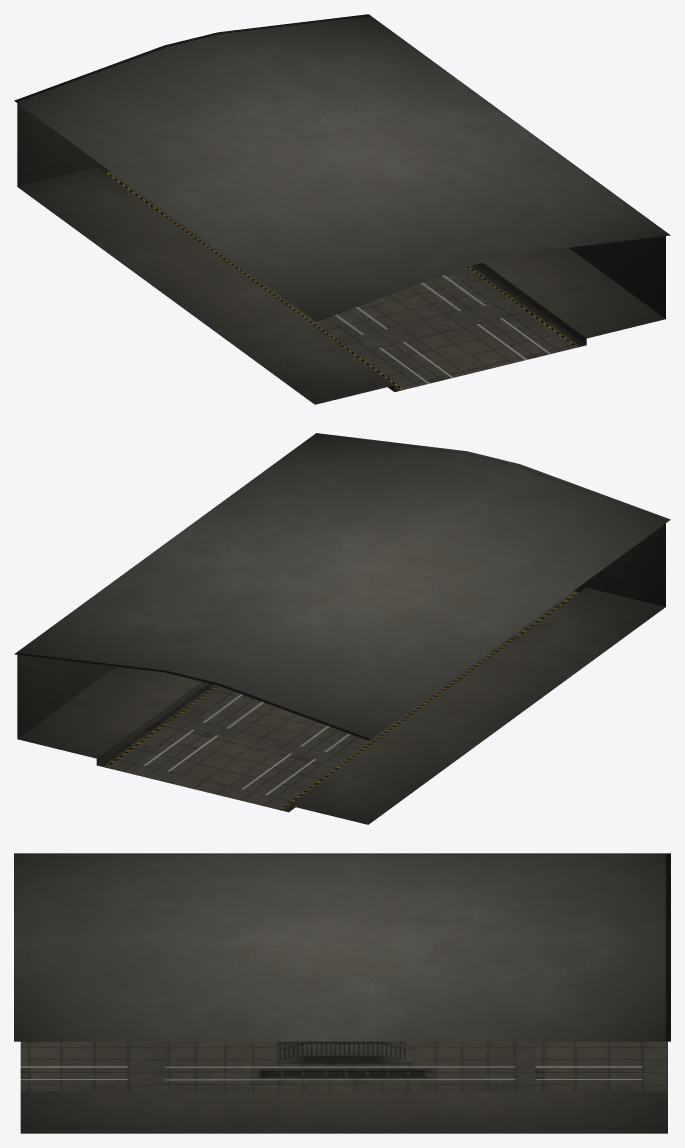
File: hangerFloor.fbx
The picture shows the model from 3 angles, top to bottom: view 1: azimuth 30°, elevation 25°; view 2: azimuth 150°, elevation 25°; view 3: azimuth 270°, elevation 25°; orthographic projection. The views are drawn at different scales.
Visible parts, largest first — view 1: hanger_roof, hanger_floor, hanger_walls; view 2: hanger_roof, hanger_floor, hanger_walls; view 3: hanger_roof, hanger_floor, hanger_walls.
Boxes of the visible parts, left/top/right/bottom form: hanger_roof: left=14, top=14, right=670, bottom=321; hanger_floor: left=17, top=167, right=665, bottom=404; hanger_walls: left=17, top=15, right=665, bottom=318; hanger_roof: left=14, top=433, right=670, bottom=740; hanger_floor: left=17, top=587, right=665, bottom=824; hanger_walls: left=17, top=435, right=665, bottom=738; hanger_roof: left=14, top=853, right=670, bottom=1041; hanger_floor: left=20, top=1041, right=667, bottom=1133; hanger_walls: left=21, top=854, right=667, bottom=854.
Bounding box in the file's own units: 134 × 40.33 × 198.
